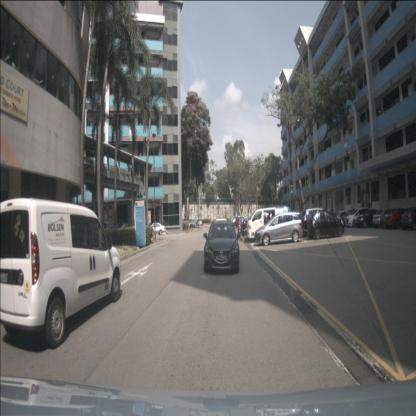human-pedestrian-adult: (153, 214, 155, 224), (156, 216, 158, 226)
vehicle-car: (0, 198, 121, 349), (204, 221, 239, 274), (254, 212, 303, 246), (247, 207, 288, 242), (307, 210, 344, 239), (300, 208, 333, 236), (384, 207, 415, 230), (355, 209, 387, 228), (345, 209, 375, 228), (372, 209, 400, 229), (340, 209, 366, 226), (128, 218, 146, 240), (214, 219, 231, 241), (401, 207, 415, 231), (115, 222, 135, 238), (333, 211, 352, 225), (101, 223, 116, 238), (146, 223, 164, 235), (236, 216, 249, 228), (184, 220, 197, 228), (183, 220, 195, 228), (198, 219, 202, 226)
vehicle-motorcycle: (237, 220, 241, 236)
